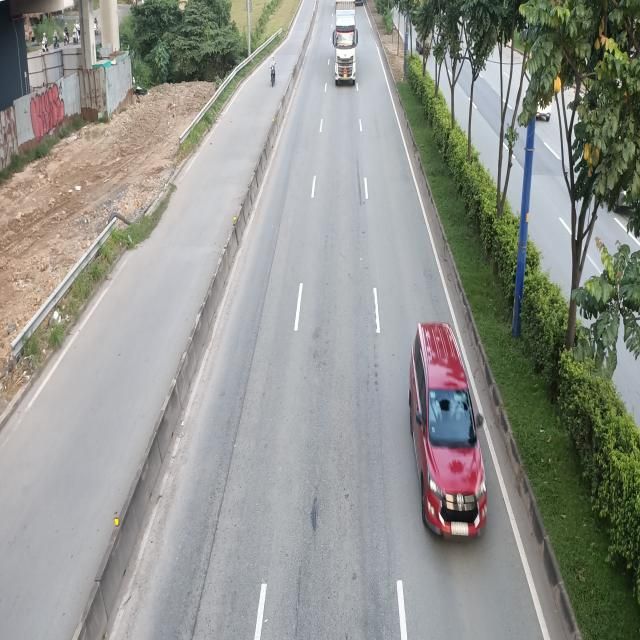car: (408, 323, 486, 542)
container: (332, 0, 358, 85)
